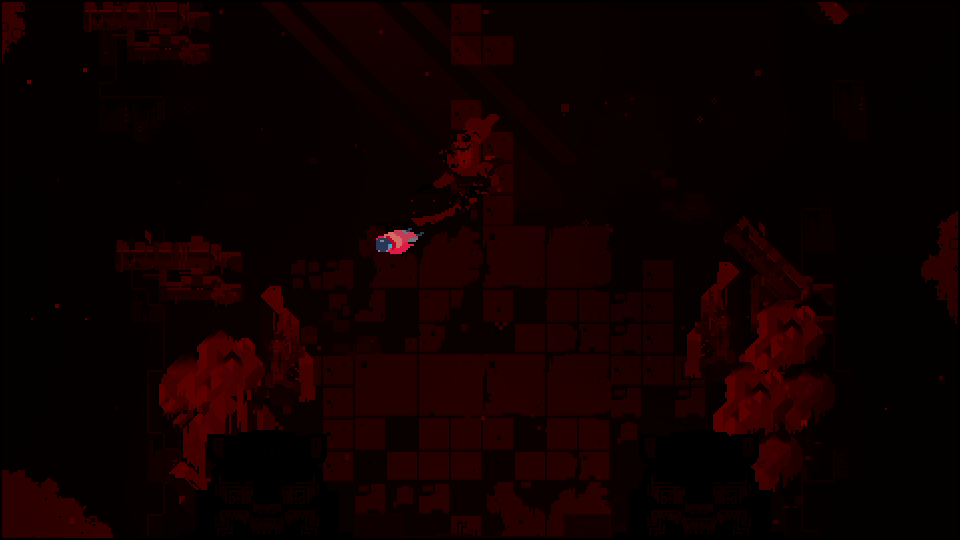player: (375, 220, 425, 256)
